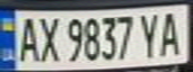3: (100, 14, 121, 62)
7: (115, 11, 139, 61)
8: (81, 14, 103, 62)
9: (63, 14, 84, 63)
A: (154, 8, 187, 57), (12, 14, 42, 63)
X: (36, 12, 60, 63)
Y: (136, 9, 163, 58)
